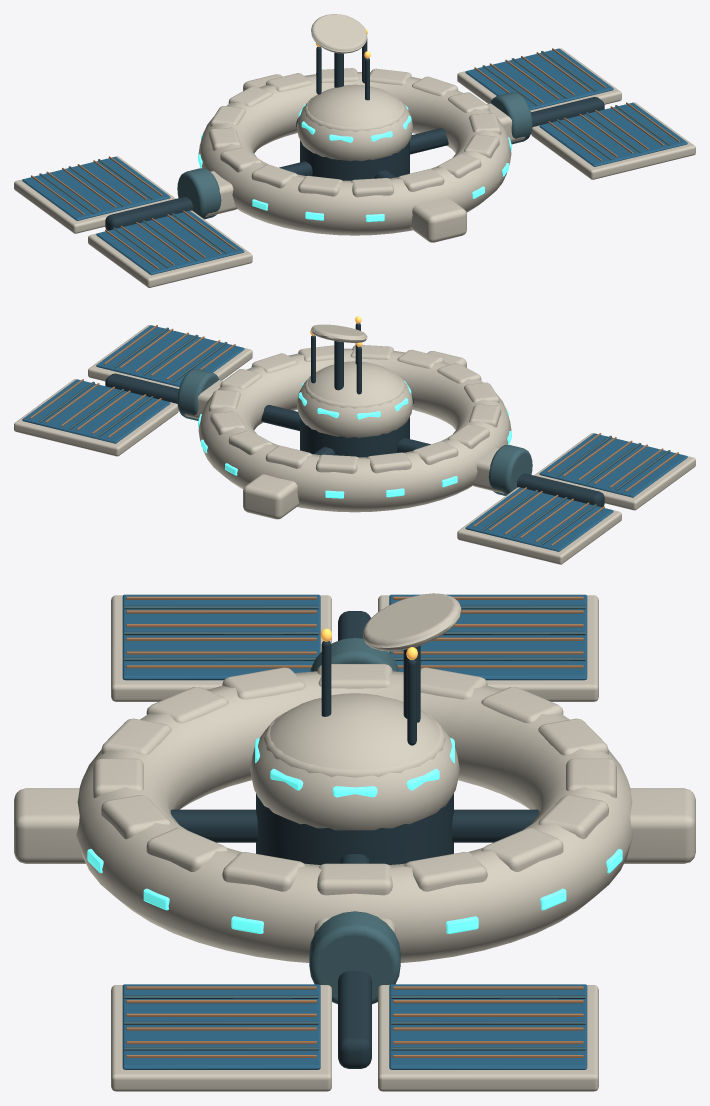
Rendered from auto_explore.glb.
3 renders of one model, top to bottom at view 1: azimuth 30°, elevation 25°; view 2: azimuth 150°, elevation 25°; view 3: azimuth 270°, elevation 25°, orthographic. The views are drawn at different scales.
Visible parts, largest first — view 1: Architecture, Hardware; view 2: Architecture, Hardware; view 3: Architecture, Hardware.
Boxes of the visible parts, left/top/right/bottom form: Architecture: left=14, top=48, right=695, bottom=287; Hardware: left=311, top=14, right=370, bottom=100; Architecture: left=14, top=325, right=695, bottom=564; Hardware: left=310, top=316, right=367, bottom=394; Architecture: left=14, top=594, right=695, bottom=1091; Hardware: left=320, top=593, right=461, bottom=745.
Size of the model in its own units: 5.99 by 1.5 by 3.58.
